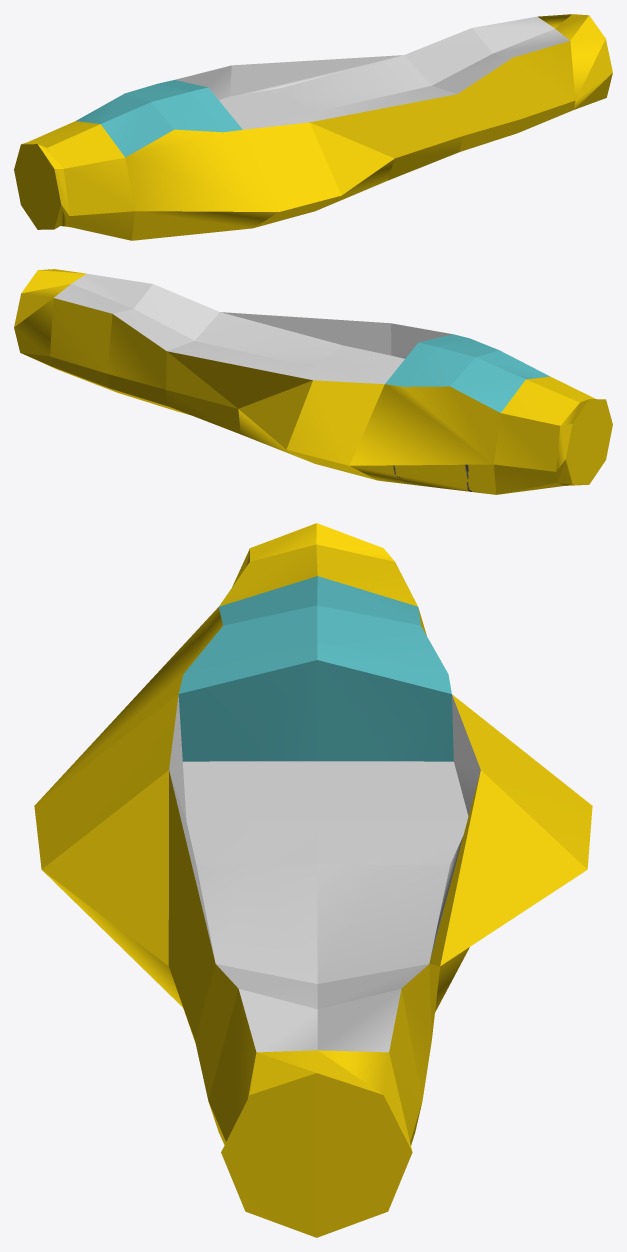
The model's file is Corp_3.FBX.
The picture shows the model from 3 angles, top to bottom: view 1: azimuth 30°, elevation 25°; view 2: azimuth 150°, elevation 25°; view 3: azimuth 270°, elevation 25°; orthographic projection. The views are drawn at different scales.
Parts seen in each view (by area): view 1: Cylinder042; view 2: Cylinder042; view 3: Cylinder042.
Part boxes in pixels (bbox=[...]): Cylinder042: bbox=[14, 14, 612, 240]; Cylinder042: bbox=[14, 269, 612, 494]; Cylinder042: bbox=[34, 523, 592, 1237].
Size of the model in its own units: 122 by 24.77 by 53.52.
